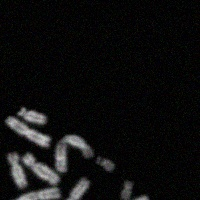chromosome: (55, 134, 93, 171), (7, 116, 51, 146), (21, 152, 58, 185), (45, 178, 89, 200), (3, 187, 60, 200), (7, 152, 26, 189), (18, 107, 47, 124), (97, 156, 114, 171), (121, 181, 132, 200), (115, 196, 150, 200)
